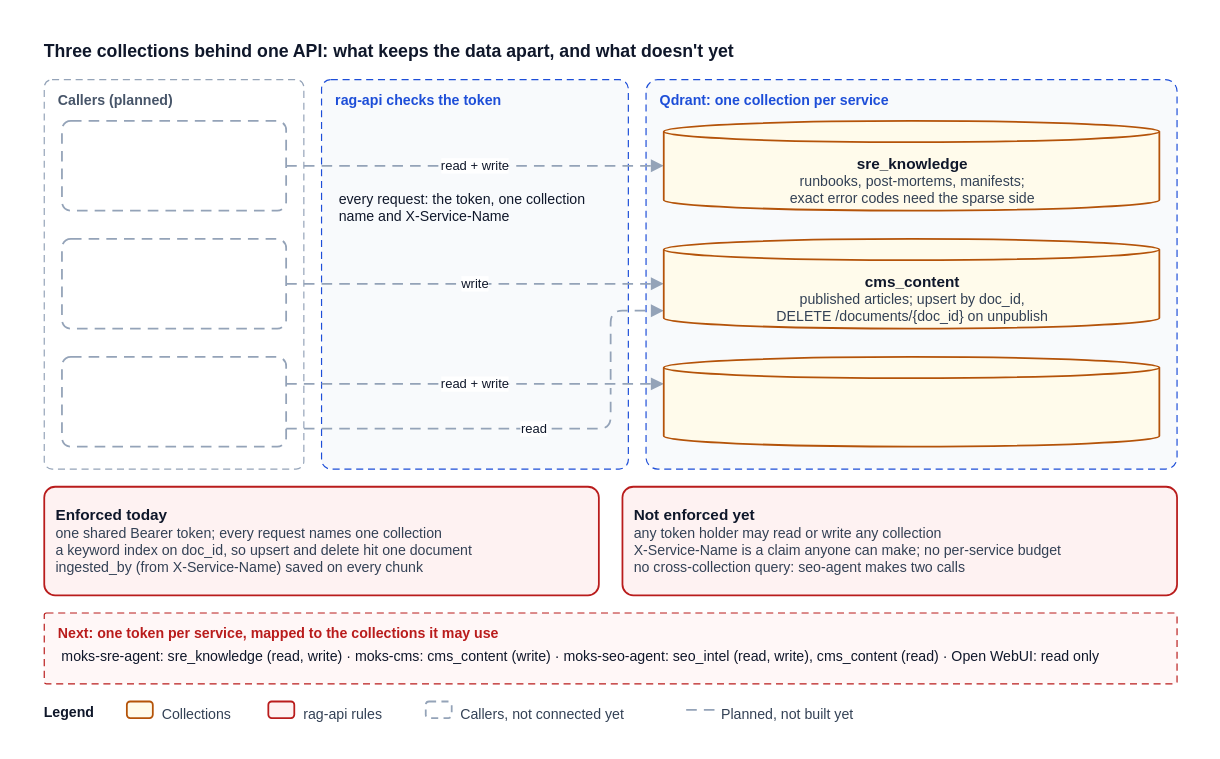
Image size: 1220x759. Some labels were removed from this diagram. Here are the shapes that lost their labels. From the top down, the centre of each, then its label:
the point at 174,165: moks-sre-agent investigations look up runbooks
the point at 174,283: moks-cms on publish, unpublish and delete
the point at 174,401: moks-seo-agent internal links and cannibalisation checks
the point at 911,401: seo_intel audits, SERP and keyword notes; seo-agent also reads cms_content
